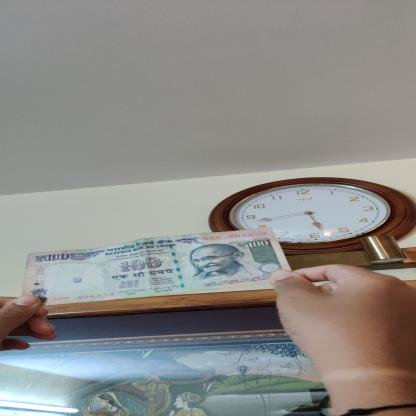Old100Front: (22, 226, 292, 306)
